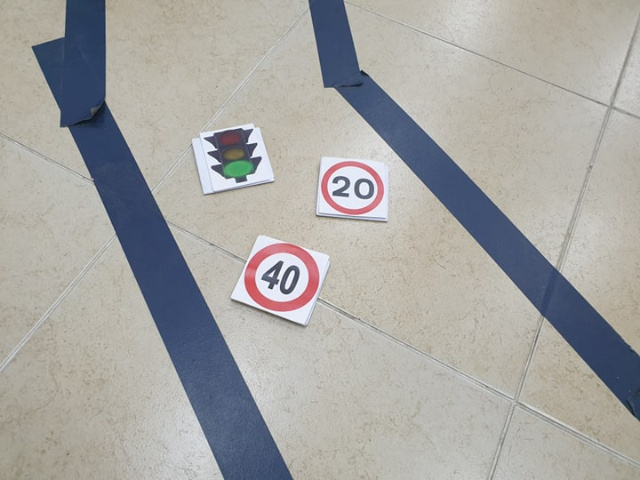Green: (204, 130, 262, 183)
Limit 20: (319, 162, 384, 216)
Limit 40: (243, 243, 318, 309)
